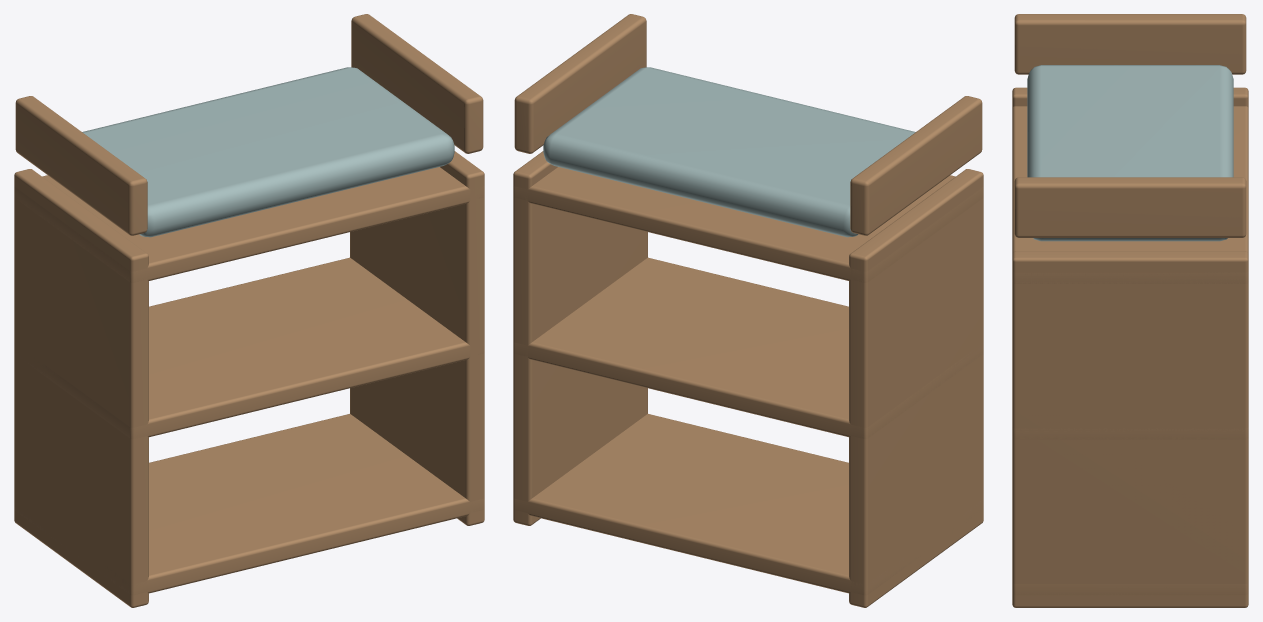
File: atelier-changing-table.glb
3 views of the same model, side by side, from view 1: azimuth 30°, elevation 25°; view 2: azimuth 150°, elevation 25°; view 3: azimuth 270°, elevation 25° (orthographic).
Parts seen in each view (by area): view 1: legs.050, fabric.044; view 2: legs.050, fabric.044; view 3: legs.050, fabric.044.
Part boxes in pixels (x1,y1,x2,y2): legs.050: [14, 14, 484, 607]; fabric.044: [82, 67, 454, 237]; legs.050: [513, 14, 983, 607]; fabric.044: [543, 67, 915, 237]; legs.050: [1012, 14, 1248, 607]; fabric.044: [1027, 65, 1233, 241].
Bounding box in the file's own units: 0.95 × 1.09 × 0.55.
